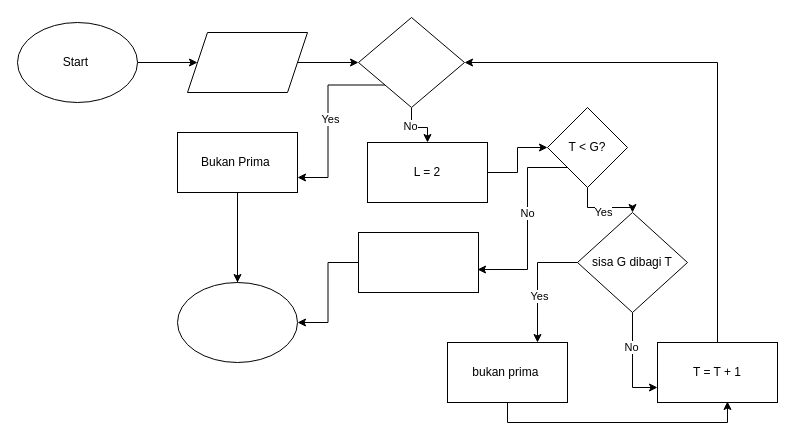
This 795x448 diagram has some shape labels left out. Here are the shapes that lost their labels. From the top down, the centre of each, then its label:
the point at 247,62: input G
the point at 411,62: G ≤ 1?
the point at 418,262: Prima
the point at 237,322: End
